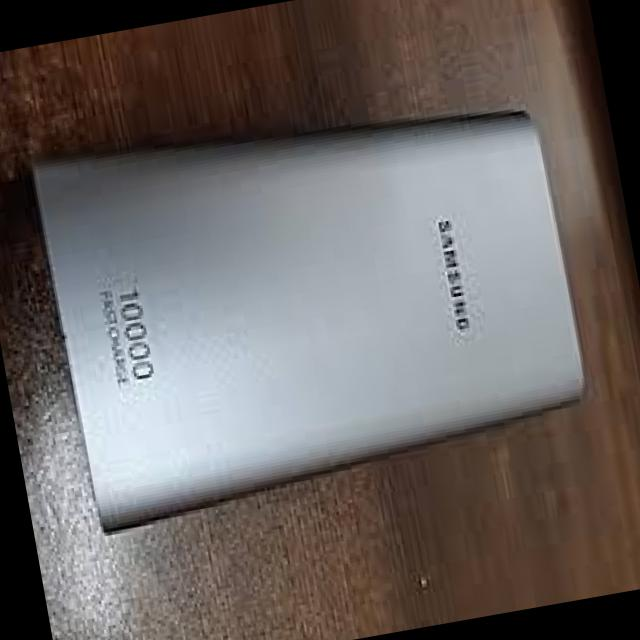portable-charger: (22, 70, 596, 540)
